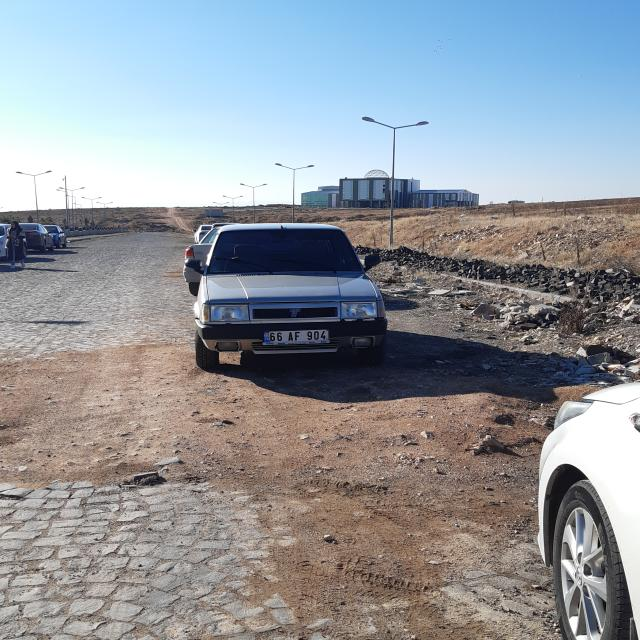license_plate: (263, 329, 329, 341)
